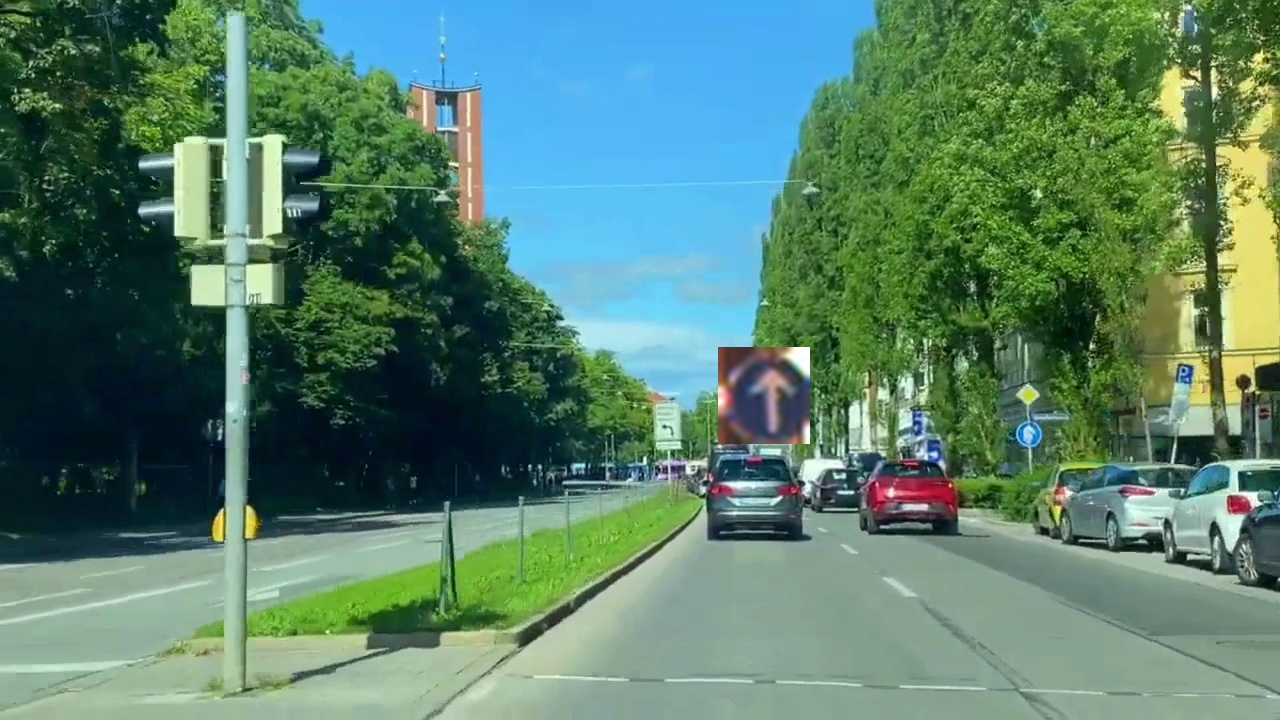Ahead only: (718, 347, 810, 444)
